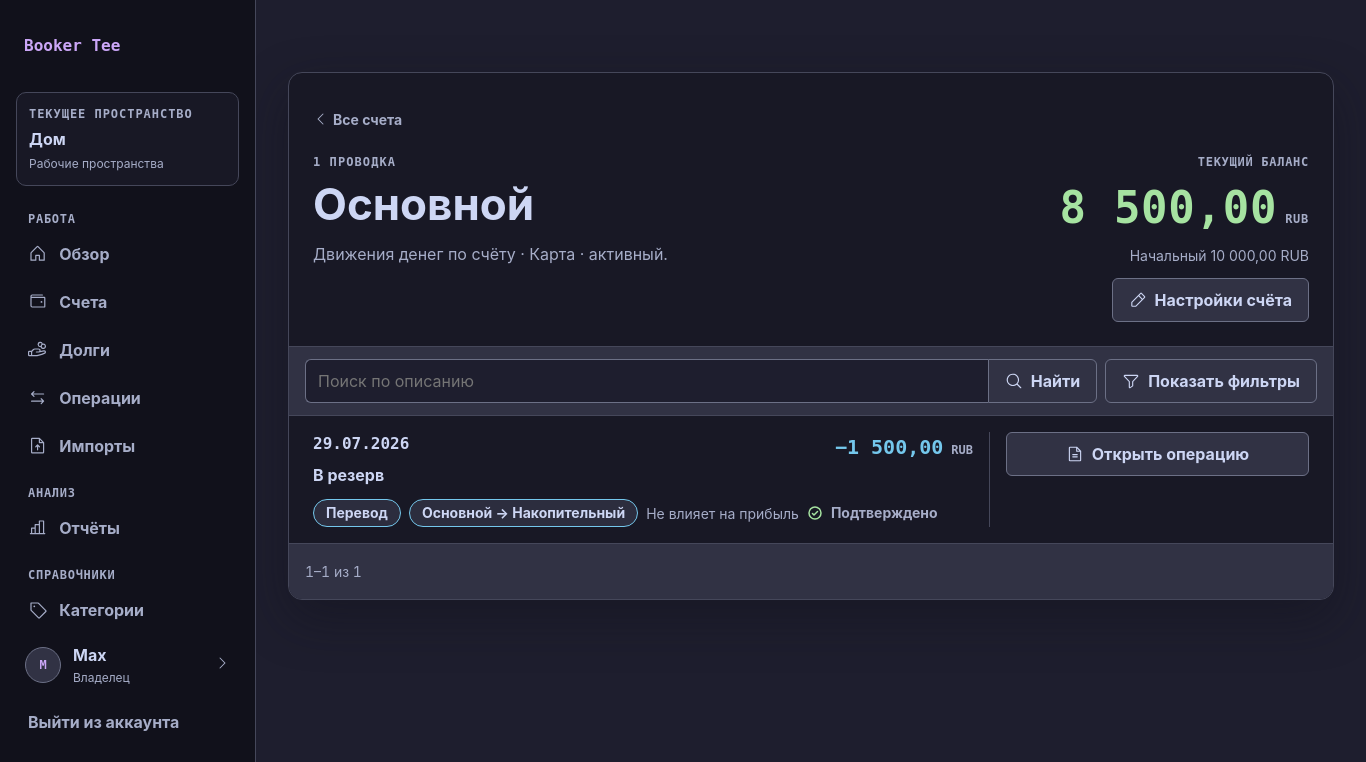
Test case: AccountDetailPage › opens filters and keeps explicit labels
Click the button "Показать фильтры": (1211,381) [1105, 359, 1317, 403]
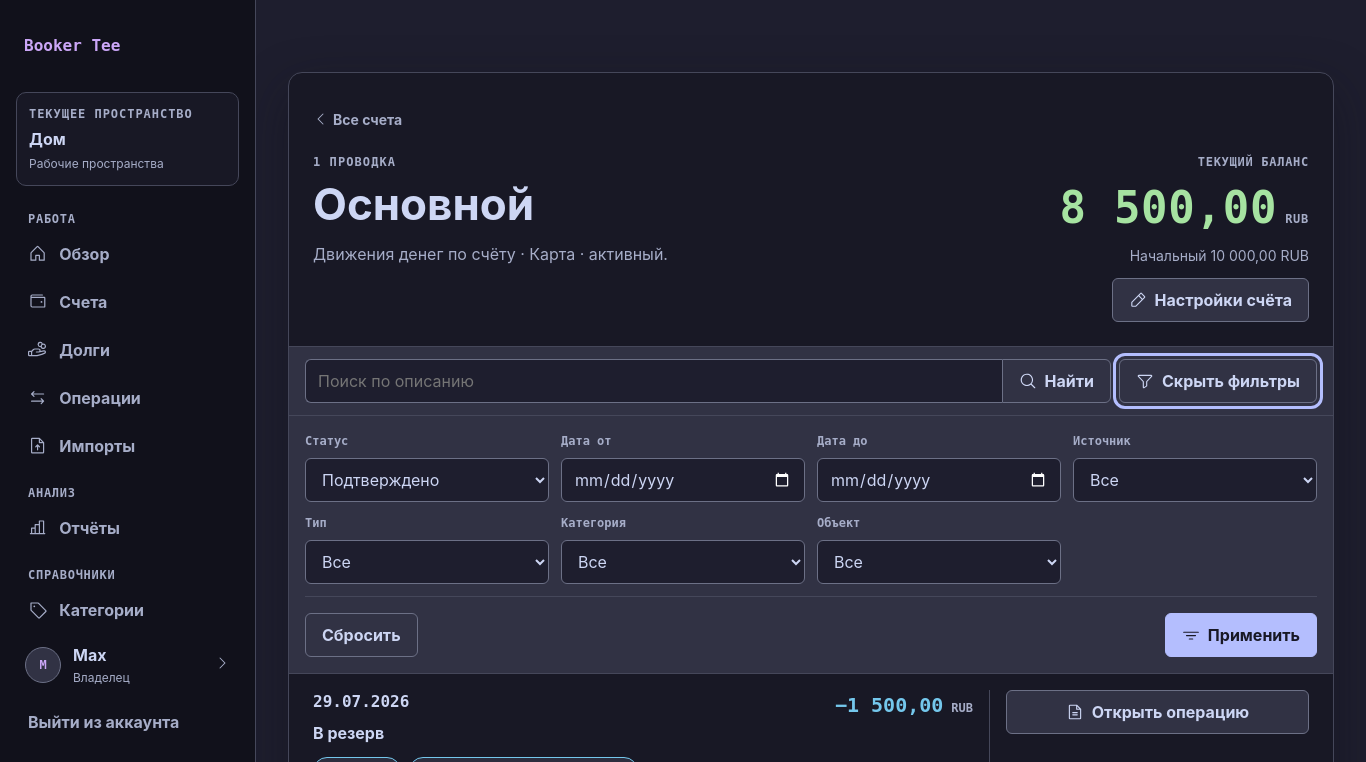
Now the dropdown labelled "Статус" shows "Подтверждено", box [305, 458, 549, 502]
Now the date field labelled "Дата от" is shown, box [561, 458, 805, 502]
Now the dropdown labelled "Источник" is shown, box [1073, 458, 1317, 502]
